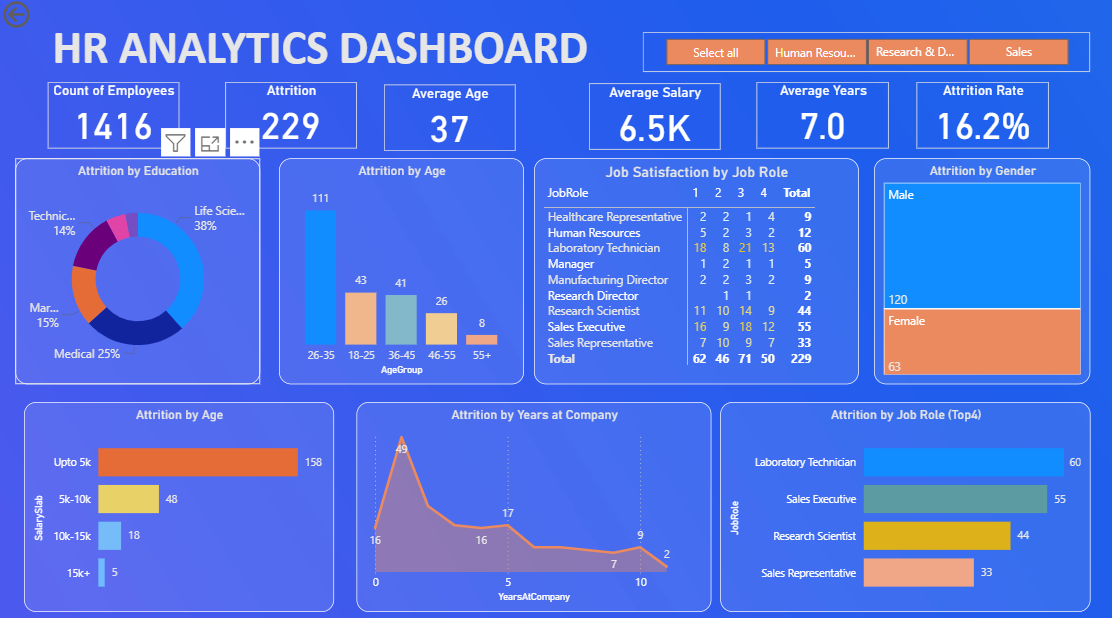

The dashboard page shown, as its layout file describes it:
{"tool":"powerbi","page":{"name":"Page 1","canvas":[1280,720],"ordinal":0},"visuals":[{"type":"card","title":"Count of Employees","fields":{"Values":["CountNonNull(HR_Analytics.EmpID)"]},"box":[55.7,97.1,150,75.7],"z":0},{"type":"actionButton","box":[0,0,100,40],"z":1000},{"type":"card","title":"Attrition","fields":{"Values":["CountNonNull(HR_Analytics.AttritionCount)"]},"box":[258.6,97.1,150,75.7],"z":2000},{"type":"card","title":"Average Age","fields":{"Values":["Avg(HR_Analytics.Age)"]},"box":[440,100,150,75.7],"z":3000},{"type":"card","title":"Average Salary","fields":{"Values":["Avg(HR_Analytics.MonthlyIncome)"]},"box":[674.3,98.6,150,75.7],"z":4000},{"type":"card","title":"Average Years","fields":{"Values":["Avg(HR_Analytics.YearsAtCompany)"]},"box":[865.7,97.1,151.4,75.7],"z":5000},{"type":"card","title":"Attrition Rate","fields":{"Values":["HR_Analytics.AttritionRate"]},"box":[1048.6,97.1,151.4,75.7],"z":6000},{"type":"donutChart","title":"Attrition by Education","fields":{"Category":["HR_Analytics.EducationField"],"Y":["Sum(HR_Analytics.AttritionCount)"]},"box":[18.6,184.3,280,258.6],"z":7000},{"type":"columnChart","title":"Attrition by Age","fields":{"Category":["HR_Analytics.AgeGroup"],"Y":["Sum(HR_Analytics.AttritionCount)"]},"box":[320,184.3,280,258.6],"z":8000},{"type":"pivotTable","title":"Job Satisfaction by Job Role","fields":{"Columns":["HR_Analytics.JobSatisfaction"],"Values":["Sum(HR_Analytics.AttritionCount)"],"Rows":["HR_Analytics.JobRole"]},"box":[611.4,184.3,371.4,258.6],"z":9000},{"type":"barChart","title":"Attrition by Age","fields":{"Category":["HR_Analytics.SalarySlab"],"Y":["Sum(HR_Analytics.AttritionCount)"]},"box":[28.6,462.9,354.3,240],"z":10000},{"type":"barChart","title":"Attrition by Job Role (Top4)","fields":{"Category":["HR_Analytics.JobRole"],"Y":["Sum(HR_Analytics.AttritionCount)"]},"box":[824.3,462.9,422.9,240],"z":11000},{"type":"areaChart","title":"Attrition by Years at Company","fields":{"Category":["HR_Analytics.YearsAtCompany"],"Y":["Sum(HR_Analytics.AttritionCount)"]},"box":[408.6,462.9,405.7,240],"z":12000},{"type":"treemap","title":"Attrition by Gender","fields":{"Group":["HR_Analytics.Gender"],"Values":["Sum(HR_Analytics.AttritionCount)"]},"box":[1000,184.3,247.1,258.6],"z":13000},{"type":"slicer","fields":{"Values":["HR_Analytics.Department"]},"box":[735.7,40,511.4,45.7],"z":14000},{"type":"textbox","box":[28.6,20,677.1,77.1],"z":15000}]}

Visuals, with their boxes in screenshot pixels (x1, y1, x2, y2), scaled from the page's 1280x720 canvas onto the 1112x618 screenshot:
"Count of Employees" card: (x1=48, y1=83, x2=179, y2=148)
actionButton: (x1=0, y1=0, x2=87, y2=34)
"Attrition" card: (x1=225, y1=83, x2=355, y2=148)
"Average Age" card: (x1=382, y1=86, x2=513, y2=151)
"Average Salary" card: (x1=586, y1=85, x2=716, y2=150)
"Average Years" card: (x1=752, y1=83, x2=884, y2=148)
"Attrition Rate" card: (x1=911, y1=83, x2=1042, y2=148)
"Attrition by Education" donutChart: (x1=16, y1=158, x2=259, y2=380)
"Attrition by Age" columnChart: (x1=278, y1=158, x2=521, y2=380)
"Job Satisfaction by Job Role" pivotTable: (x1=531, y1=158, x2=854, y2=380)
"Attrition by Age" barChart: (x1=25, y1=397, x2=333, y2=603)
"Attrition by Job Role (Top4)" barChart: (x1=716, y1=397, x2=1084, y2=603)
"Attrition by Years at Company" areaChart: (x1=355, y1=397, x2=707, y2=603)
"Attrition by Gender" treemap: (x1=869, y1=158, x2=1083, y2=380)
slicer - HR_Analytics.Department: (x1=639, y1=34, x2=1083, y2=74)
textbox: (x1=25, y1=17, x2=613, y2=83)
